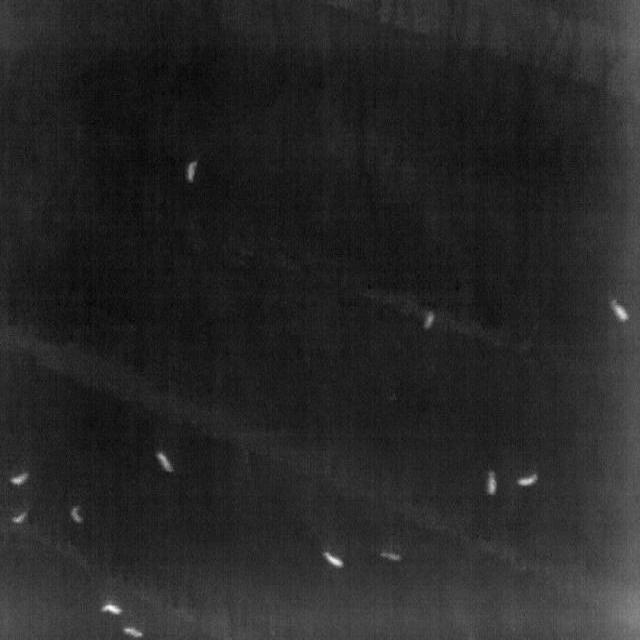deer: (609, 298, 630, 323), (155, 450, 174, 472), (322, 551, 345, 569), (183, 160, 198, 185), (99, 602, 124, 616), (485, 471, 498, 496), (516, 473, 539, 487), (10, 471, 30, 487), (122, 626, 144, 639), (380, 550, 403, 562), (69, 505, 84, 523), (423, 312, 436, 331), (12, 509, 28, 524)
